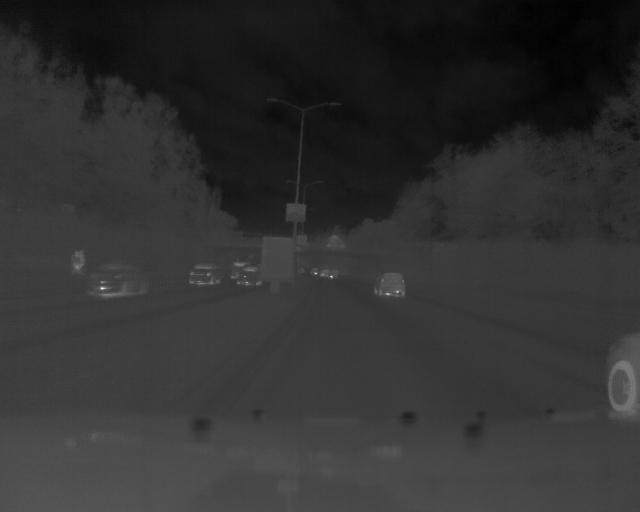car: (85, 262, 152, 300), (372, 270, 406, 299), (186, 263, 224, 285), (235, 265, 261, 289)
